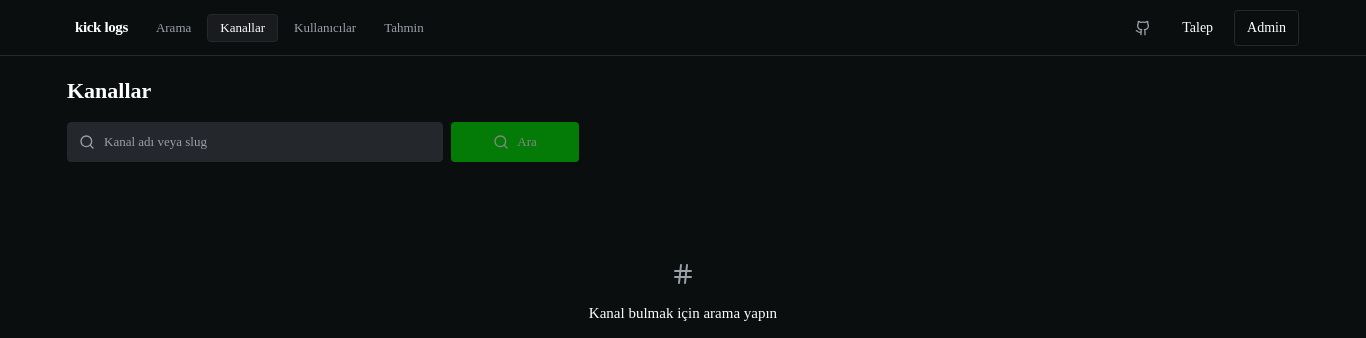
Test: ChannelsIndexPage › preserves the fallback row when a stored identity has no link
In the search field: (255, 142) left=67, top=122, right=443, bottom=162, type "nolink"
Then press Enter
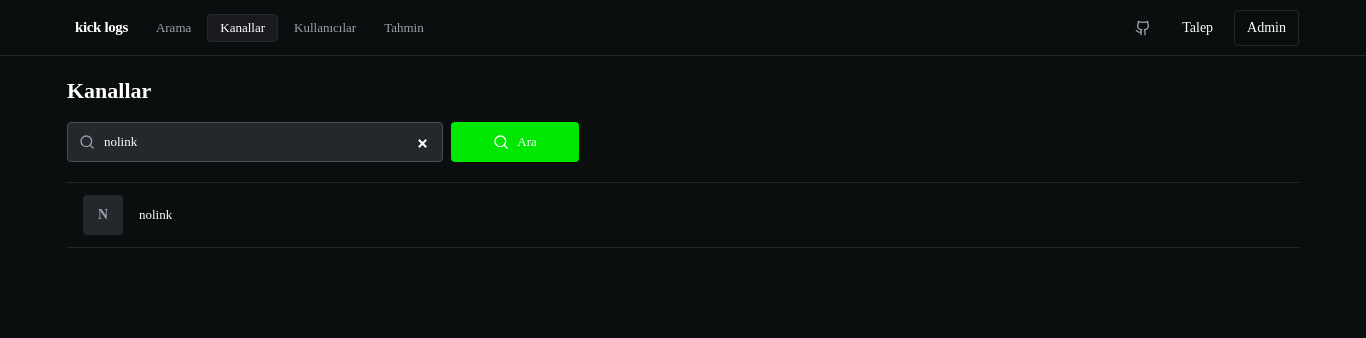
Now the text "nolink" is shown, box left=139, top=207, right=172, bottom=222
